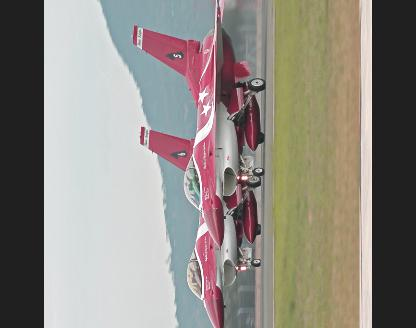F14: (130, 0, 266, 254), (139, 125, 262, 325)
